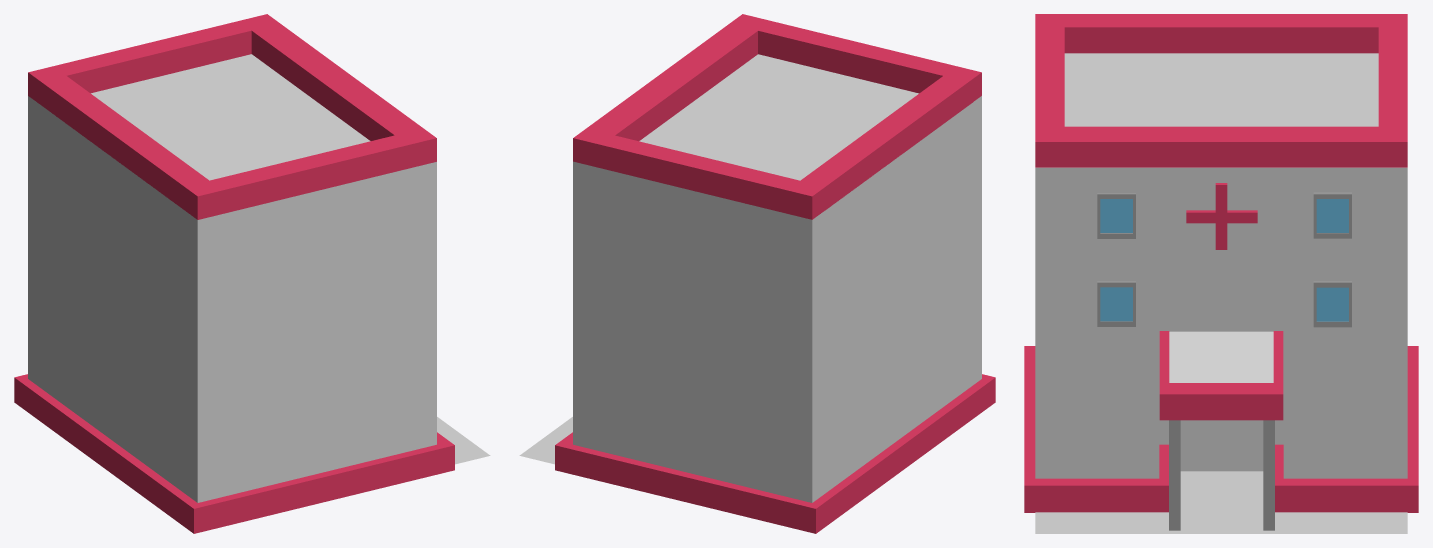
The model's file is Hospital.fbx.
3 views of the same model, side by side, from view 1: azimuth 30°, elevation 25°; view 2: azimuth 150°, elevation 25°; view 3: azimuth 270°, elevation 25° (orthographic). The views are drawn at different scales.
Parts seen in each view (by area): view 1: Cube, Cube.001, Cube.002; view 2: Cube, Cube.001, Cube.002; view 3: Cube, Cube.001, Cube.002, Cube.003, Cube.004, Cube.005, Cube.006, Cube.016, Cube.014, Cube.010, Cube.012, Cube.008 (+5 smaller).
Boxes of the visible parts, box(x1,y1,x2,y2) form: Cube: box(28, 54, 490, 502); Cube.001: box(28, 14, 436, 219); Cube.002: box(14, 374, 454, 533); Cube: box(519, 54, 981, 502); Cube.001: box(573, 14, 981, 219); Cube.002: box(555, 374, 995, 533); Cube: box(1035, 53, 1407, 533); Cube.001: box(1035, 14, 1407, 167); Cube.002: box(1024, 346, 1418, 512); Cube.003: box(1159, 331, 1283, 420); Cube.004: box(1169, 331, 1273, 382); Cube.005: box(1169, 420, 1180, 530); Cube.006: box(1263, 420, 1274, 530); Cube.016: box(1100, 287, 1132, 321); Cube.014: box(1316, 287, 1348, 321); Cube.010: box(1100, 199, 1132, 232); Cube.012: box(1316, 199, 1348, 232); Cube.008: box(1186, 210, 1257, 223).
Bounding box in the file's own units: 206 × 216 × 212.
